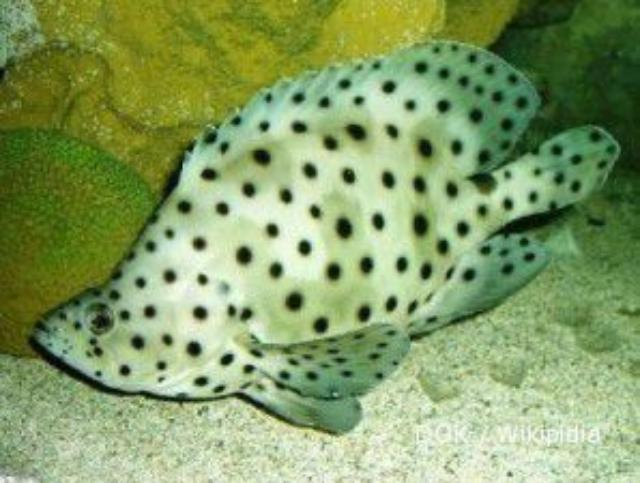Mulut: (15, 291, 74, 375)
Sirip Anal: (404, 227, 556, 335)
Sirip Dada: (246, 316, 416, 406)
Sirip Ekor: (526, 107, 626, 229)
Sirip Perut: (243, 366, 367, 448)
Sirip Punggung: (178, 31, 546, 175)
